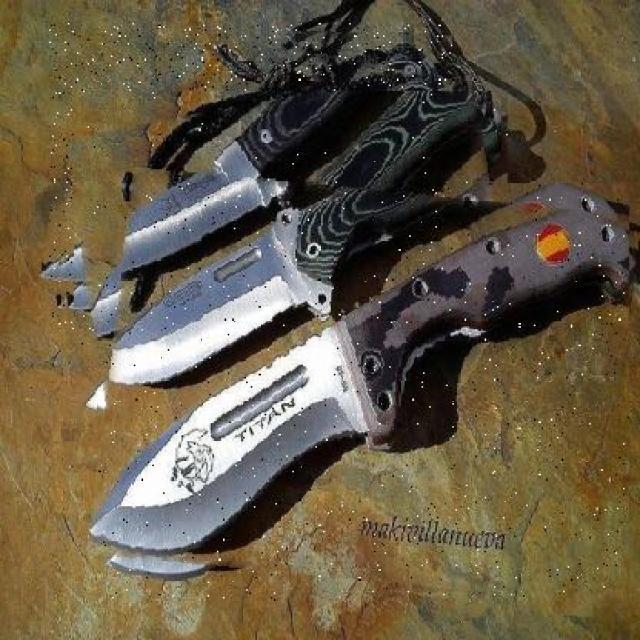knife: (96, 183, 630, 602), (72, 91, 508, 432), (50, 23, 453, 324)
